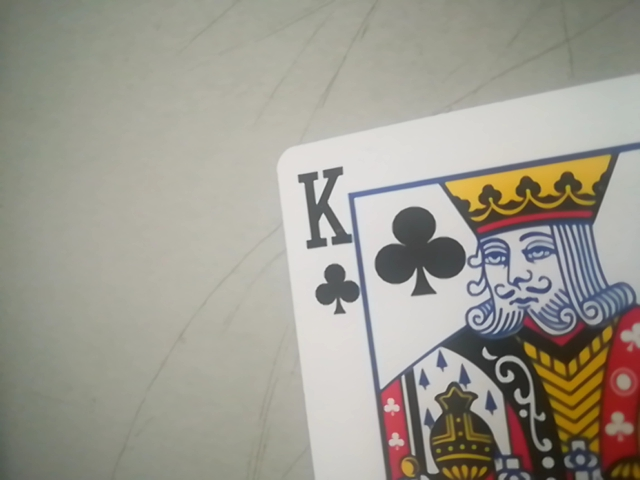mh k: (276, 25, 640, 479)
